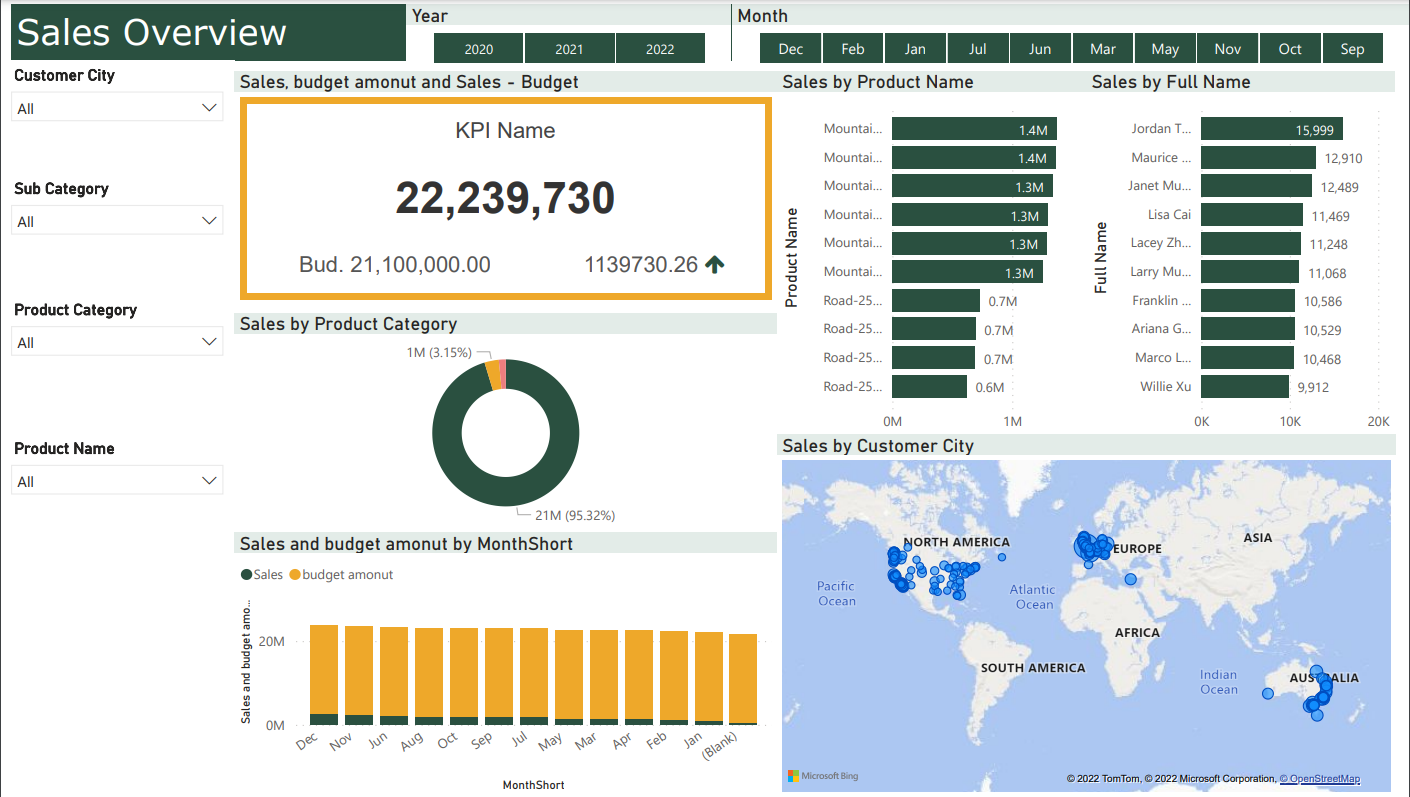

Layout of this report page (visuals, bound fields, positions):
{"tool":"powerbi","page":{"name":"Sales OverView","canvas":[1280,720],"ordinal":0},"visuals":[{"type":"textbox","box":[9.6,0,1270.4,50.8],"z":0},{"type":"slicer","title":"Customer City","fields":{"Values":["DIM_Customers.Customer City"]},"box":[0,50.8,212.9,82.4],"z":1000},{"type":"slicer","title":"Customer City","fields":{"Values":["DIM_Products.Sub Category"]},"box":[0,153.8,212.9,57.7],"z":2000},{"type":"slicer","title":"Customer City","fields":{"Values":["DIM_Products.Product Category"]},"box":[0,263.7,212.9,57.7],"z":3000},{"type":"slicer","title":"Customer City","fields":{"Values":["DIM_Products.Product Name"]},"box":[0,390,212.9,57.7],"z":4000},{"type":"BBED0A4D4D8D44CE93CF2DAFADEE466C","fields":{"actual":["key mesures.Sales"],"target1":["key mesures.budget amonut"],"target2":["key mesures.Sales - Budget"]},"box":[212.9,60.4,493,212.9],"z":7000},{"type":"donutChart","fields":{"Y":["key mesures.Sales"],"Category":["DIM_Products.Product Category"]},"box":[212.9,280.2,493,199.1],"z":8000},{"type":"lineStackedColumnComboChart","fields":{"Category":["DIM_Calendar.MonthShort"],"Y":["key mesures.Sales","key mesures.budget amonut"]},"box":[212.9,479.3,493,240.3],"z":9000},{"type":"barChart","fields":{"Y":["key mesures.Sales"],"Category":["DIM_Products.Product Name"]},"box":[705.9,60.4,281.5,350.2],"z":10000},{"type":"barChart","fields":{"Y":["key mesures.Sales"],"Category":["DIM_Customers.Full Name"]},"box":[987.5,60.4,280.2,350.2],"z":11000},{"type":"map","fields":{"Category":["DIM_Customers.Customer City"],"Size":["key mesures.Sales"]},"box":[705.9,390,561.7,329.6],"z":12000},{"type":"slicer","title":"Year","fields":{"Values":["DIM_Calendar.Year"]},"box":[369.4,0,295.3,60.4],"z":12001},{"type":"slicer","title":"Month","fields":{"Values":["DIM_Calendar.MonthShort"]},"box":[664.7,0,615.3,60.4],"z":12002}]}

Visuals, with their boxes in screenshot pixels (x1, y1, x2, y2), scaled from the page's 1280x720 canvas onto the 1410x797 screenshot:
textbox: left=11, top=0, right=1409, bottom=56
"Customer City" slicer: left=0, top=56, right=235, bottom=147
"Customer City" slicer: left=0, top=170, right=235, bottom=234
"Customer City" slicer: left=0, top=292, right=235, bottom=356
"Customer City" slicer: left=0, top=432, right=235, bottom=496
BBED0A4D4D8D44CE93CF2DAFADEE466C - key mesures.Sales x key mesures.budget amonut: left=235, top=67, right=778, bottom=303
donutChart - key mesures.Sales x DIM_Products.Product Category: left=235, top=310, right=778, bottom=531
lineStackedColumnComboChart - DIM_Calendar.MonthShort x key mesures.Sales: left=235, top=531, right=778, bottom=796
barChart - key mesures.Sales x DIM_Products.Product Name: left=778, top=67, right=1088, bottom=455
barChart - key mesures.Sales x DIM_Customers.Full Name: left=1088, top=67, right=1396, bottom=455
map - DIM_Customers.Customer City x key mesures.Sales: left=778, top=432, right=1396, bottom=796
"Year" slicer: left=407, top=0, right=732, bottom=67
"Month" slicer: left=732, top=0, right=1409, bottom=67
